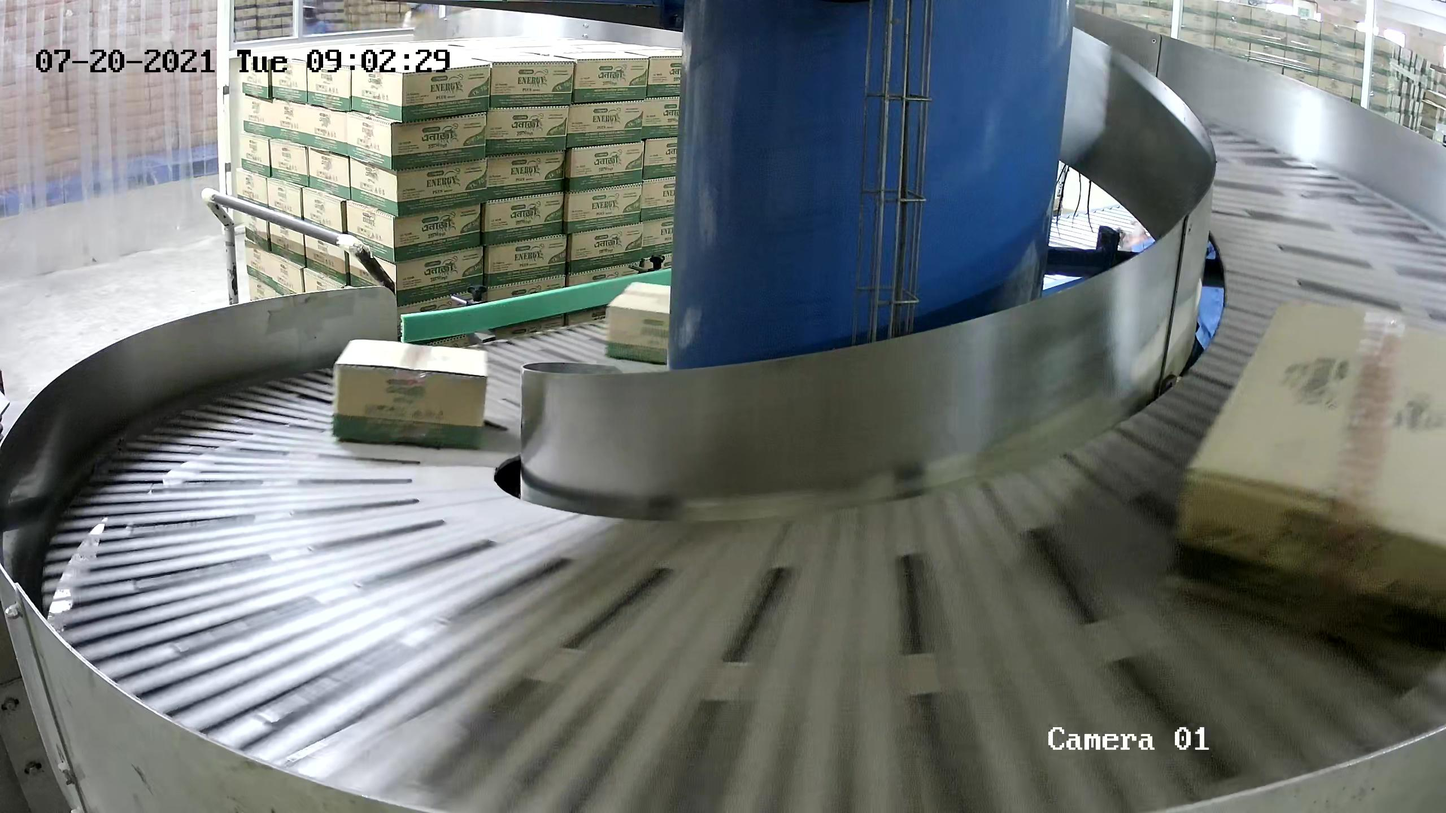Box: (1168, 295, 1446, 664), (330, 337, 489, 449), (605, 280, 671, 365)
